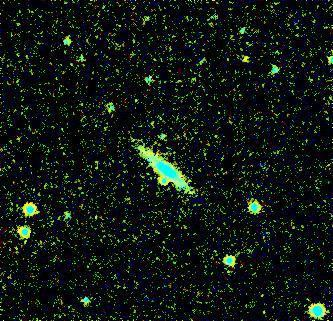star: (228, 42, 258, 72)
